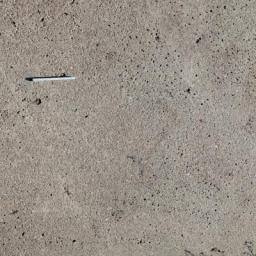FOD: (25, 72, 84, 92)
